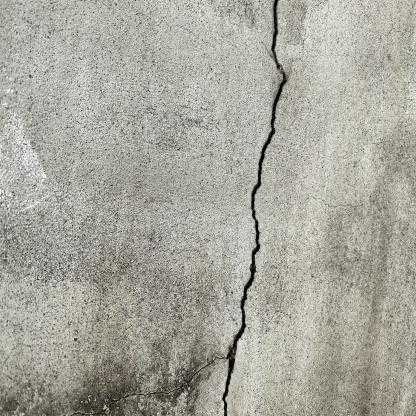crack: (222, 0, 287, 416)
